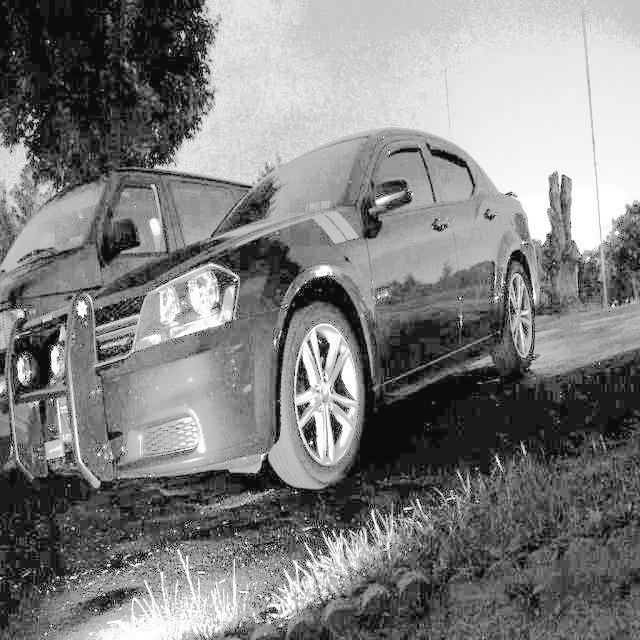Car: (15, 135, 546, 508)
